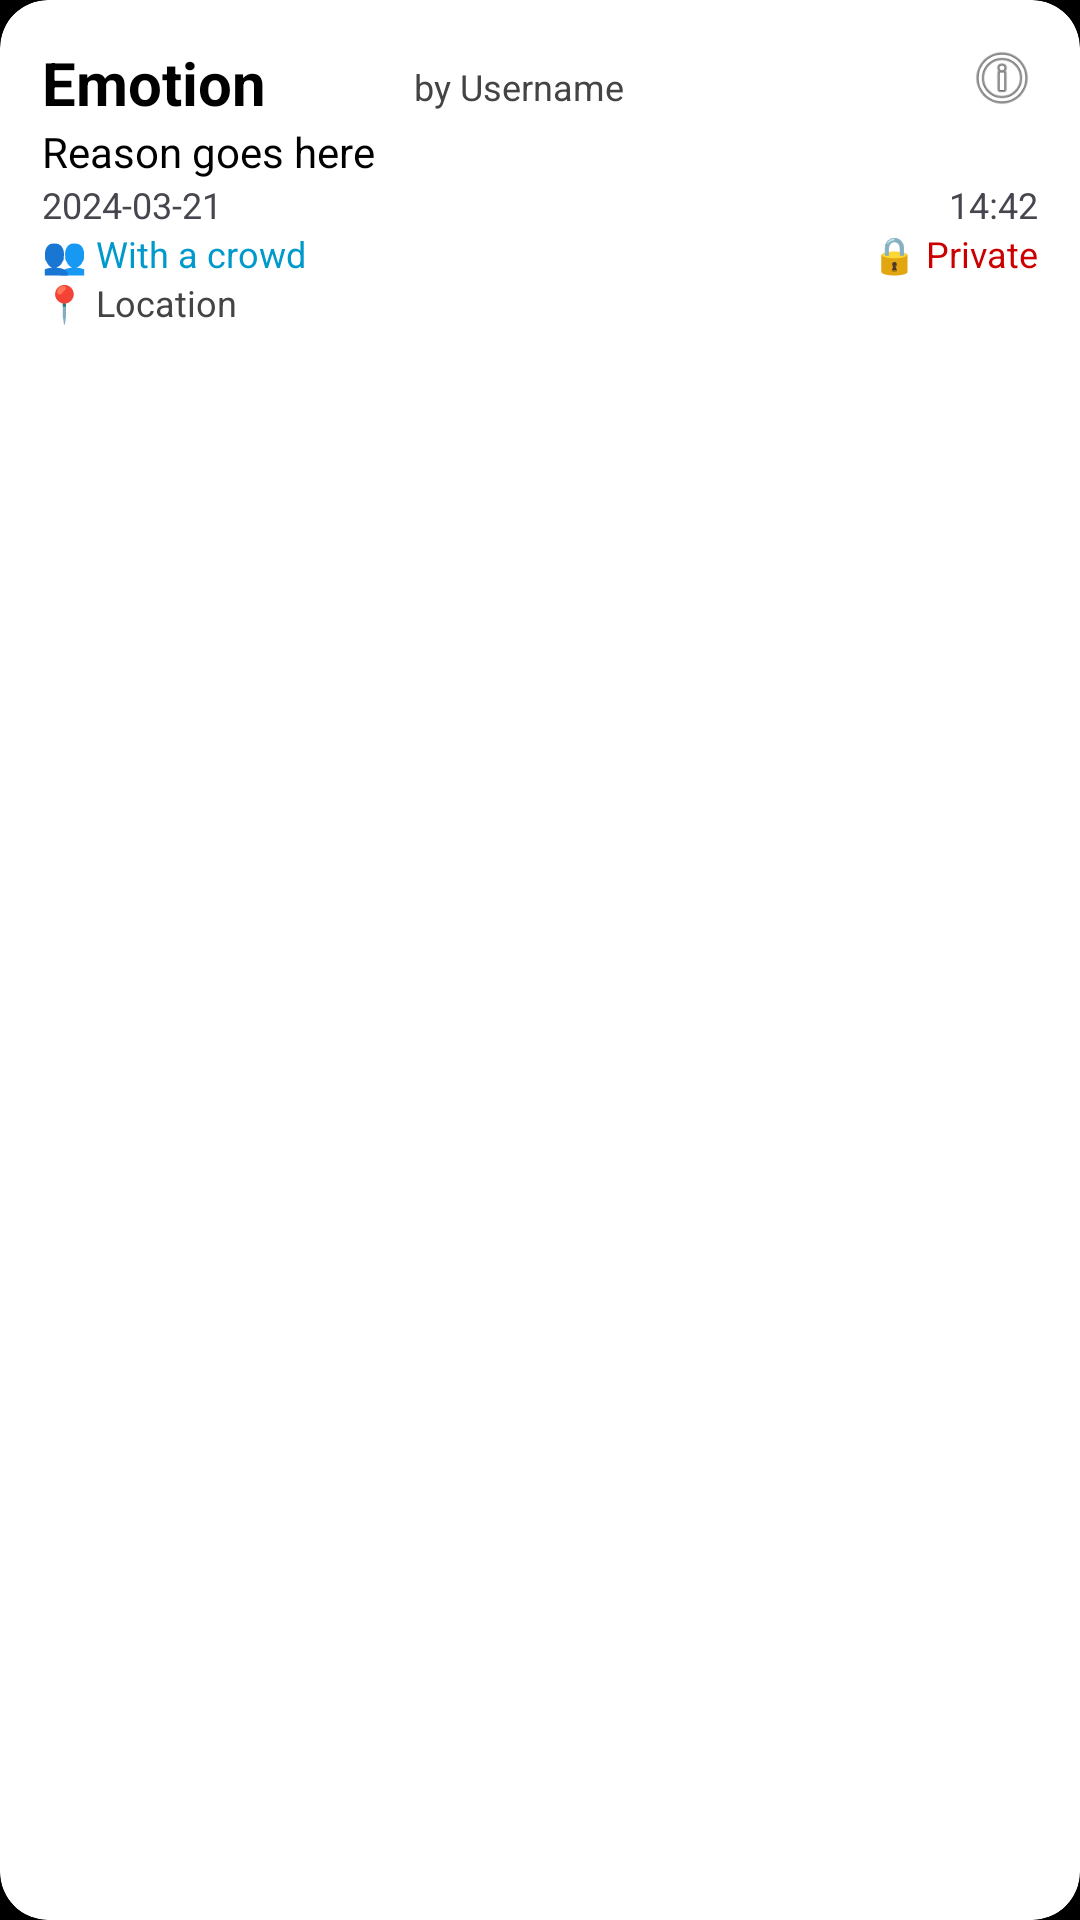

Screen size 1080×1920. Icon name, then its box in pixels as (x1, y1, x2, y2):
Info: (976, 52, 1028, 104)
